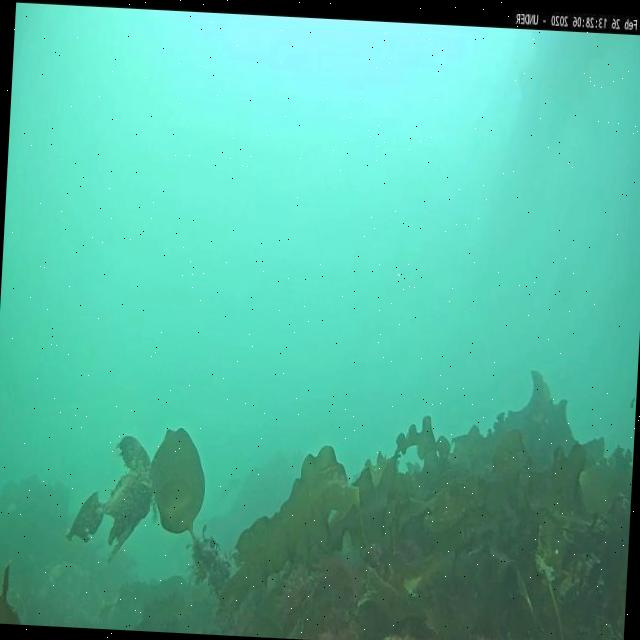fish: (319, 462, 338, 476)
